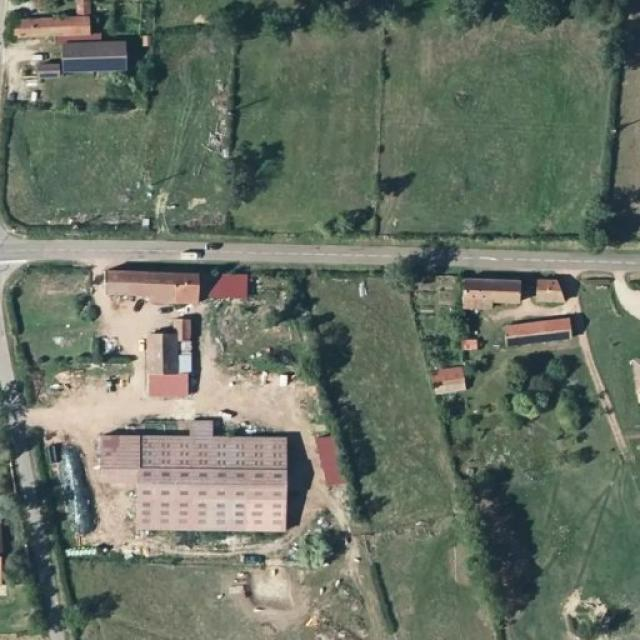ferme: (103, 251, 253, 307), (140, 310, 202, 400), (496, 312, 590, 348)
maison: (0, 0, 134, 77), (459, 266, 526, 311), (432, 360, 470, 400), (530, 274, 572, 306)
usine: (98, 413, 294, 534)
